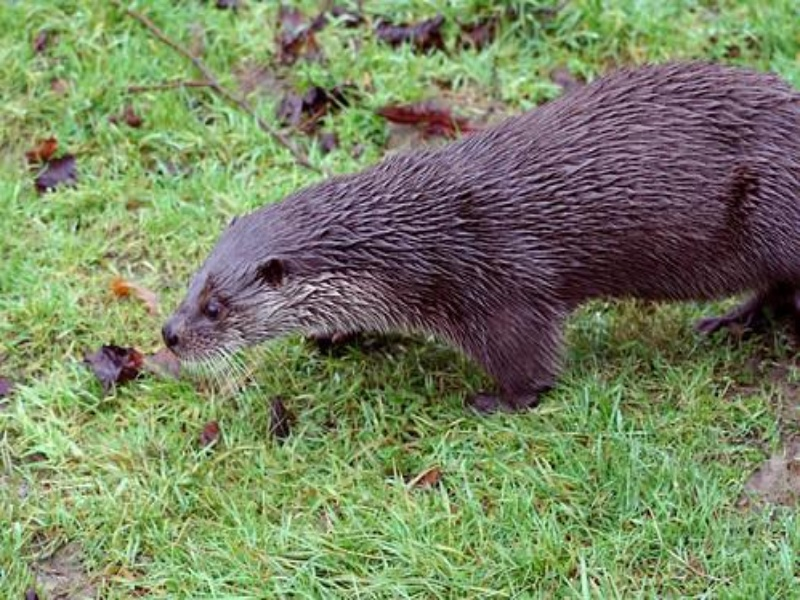minkish: (154, 63, 800, 423)
